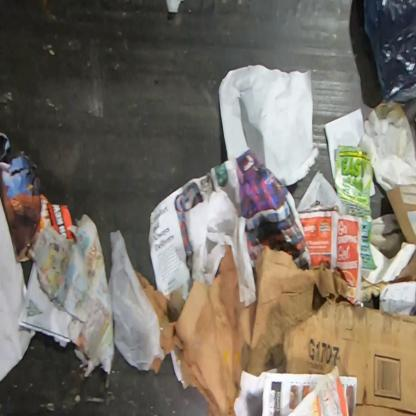cardboard: (238, 246, 415, 415), (134, 244, 247, 415)
soft_plastic: (108, 229, 166, 371), (362, 0, 415, 105)
